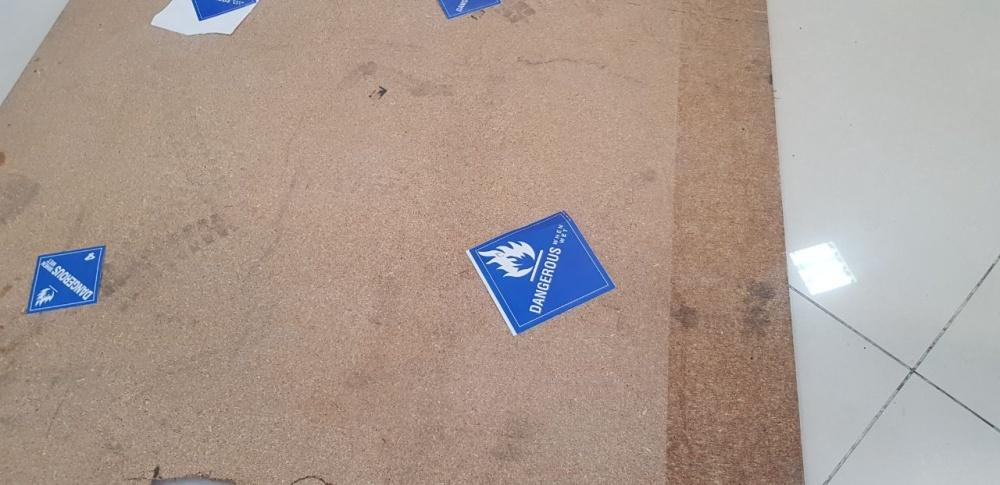dangerous-when-wet: (467, 211, 612, 334), (32, 246, 105, 316)
